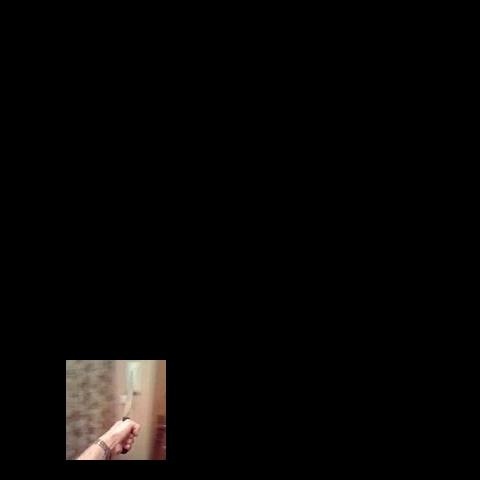knife: (122, 364, 134, 454)
